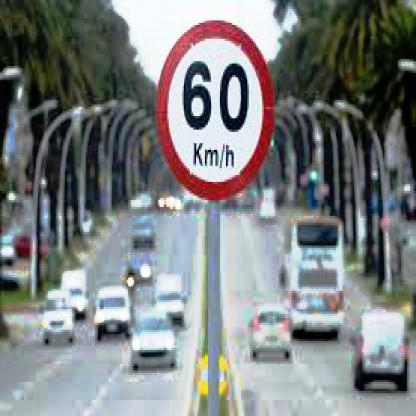Speed Limit -60-: (154, 12, 274, 201)
